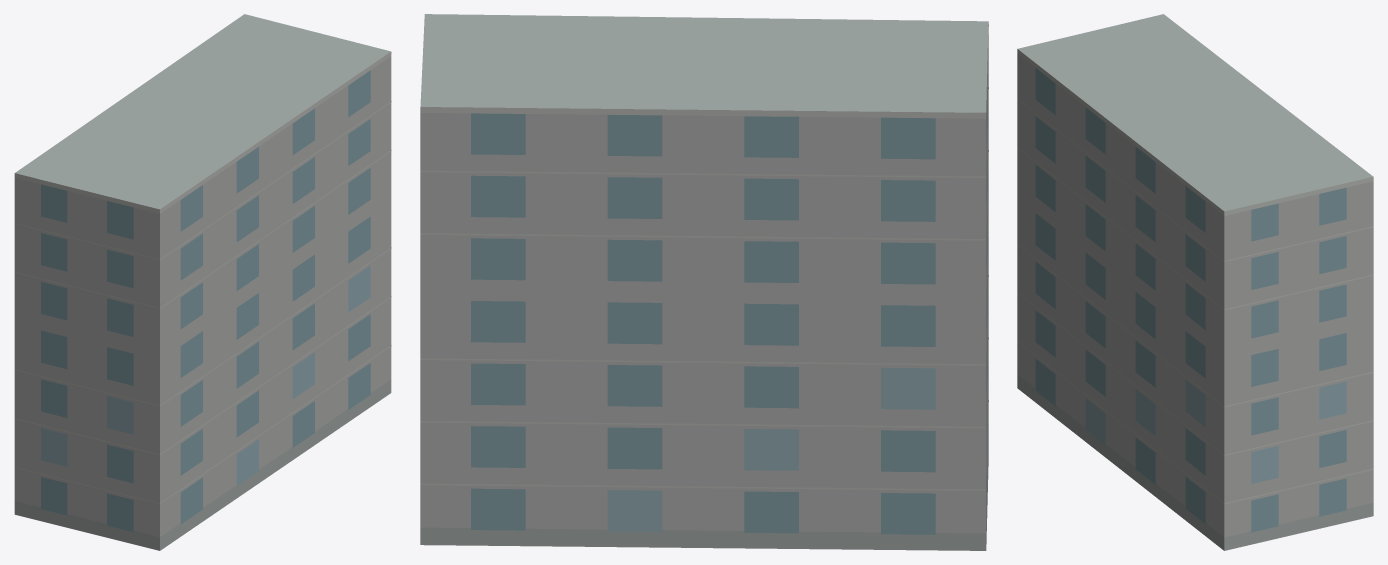
The model's file is survey-upis-32880357.glb.
3 renders of one model, left to right at view 1: azimuth 30°, elevation 25°; view 2: azimuth 150°, elevation 25°; view 3: azimuth 270°, elevation 25°, orthographic. The views are drawn at different scales.
Visible parts, largest first — view 1: survey-upis-32880357.tmp; view 2: survey-upis-32880357.tmp; view 3: survey-upis-32880357.tmp.
Part boxes in pixels (left/top/right/bottom): survey-upis-32880357.tmp: left=14, top=14, right=391, bottom=550; survey-upis-32880357.tmp: left=420, top=14, right=988, bottom=550; survey-upis-32880357.tmp: left=1017, top=14, right=1373, bottom=550.
Bounding box in the file's own units: 22.48 × 18 × 17.14.
